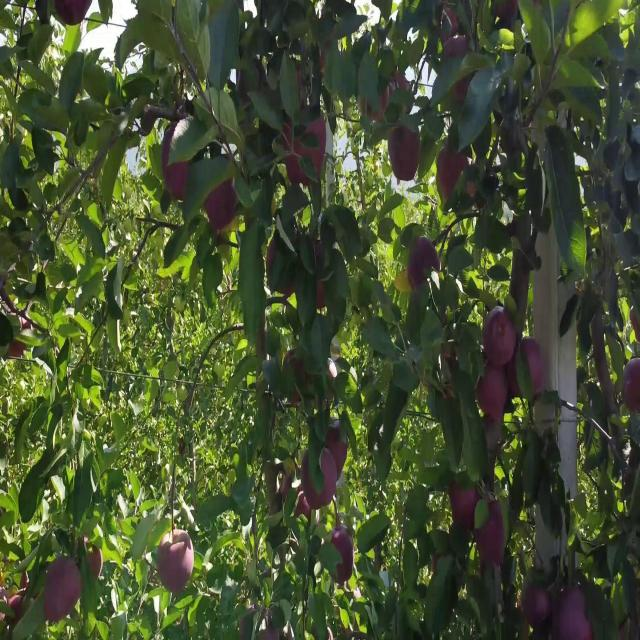apple: (300, 440, 348, 512), (44, 554, 84, 624), (160, 127, 191, 203), (160, 533, 196, 596), (512, 341, 547, 402), (204, 177, 240, 235), (484, 305, 517, 368), (476, 362, 508, 425), (476, 504, 506, 571), (388, 127, 422, 185), (280, 120, 310, 185), (304, 455, 339, 510), (444, 35, 471, 105), (448, 476, 480, 533), (436, 149, 470, 201), (408, 241, 441, 290), (556, 590, 588, 639), (324, 426, 348, 491), (164, 149, 191, 203), (444, 35, 471, 85), (520, 590, 551, 631), (288, 355, 310, 411), (332, 533, 356, 583), (304, 120, 328, 169), (164, 163, 191, 203), (8, 319, 32, 363), (388, 71, 414, 110), (440, 348, 460, 398), (284, 142, 307, 185), (56, 0, 91, 28), (624, 362, 640, 414), (8, 327, 31, 363), (440, 341, 460, 382), (364, 92, 388, 126), (84, 540, 104, 578), (440, 7, 460, 43), (296, 490, 313, 523), (140, 106, 158, 137), (8, 597, 25, 629), (496, 7, 519, 27), (396, 270, 413, 295), (316, 284, 327, 313), (580, 618, 593, 638), (632, 312, 640, 341), (20, 575, 31, 596), (432, 554, 442, 576), (320, 49, 328, 76)
